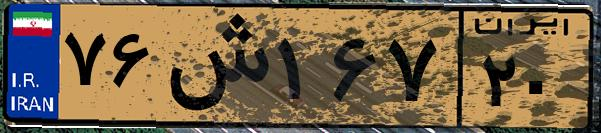0: (525, 38, 570, 115)
1: (270, 28, 330, 110)
2: (475, 38, 525, 113)
6: (330, 28, 385, 110), (110, 28, 158, 98)
7: (385, 28, 445, 110), (57, 26, 110, 100)
ش: (158, 12, 270, 120)
